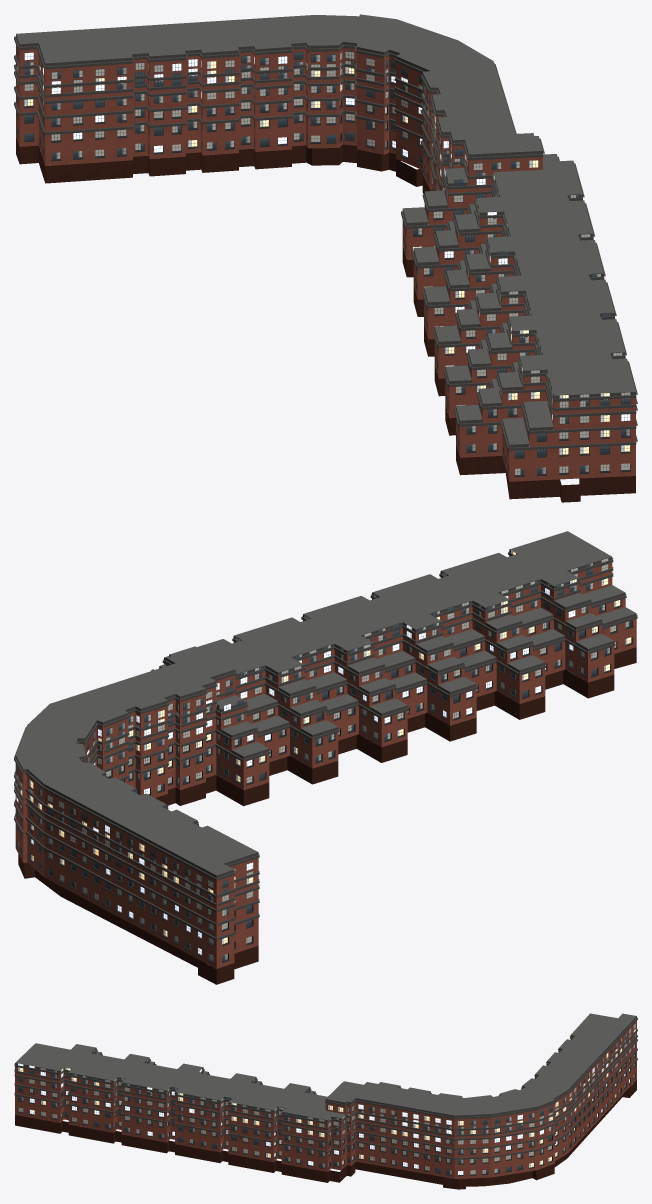
File: z5a_abz.glb
3 views of the same model, one above another, from view 1: azimuth 30°, elevation 25°; view 2: azimuth 150°, elevation 25°; view 3: azimuth 270°, elevation 25° (orthographic). The views are drawn at different scales.
Visible parts, largest first — view 1: z5a_abz; view 2: z5a_abz; view 3: z5a_abz.
Boxes of the visible parts, bbox=[...] form: z5a_abz: bbox=[14, 14, 637, 502]; z5a_abz: bbox=[14, 531, 637, 984]; z5a_abz: bbox=[14, 1013, 637, 1189].
Bounding box in the file's own units: 61.87 × 20.76 × 158.
3 materials, 3 textured.
